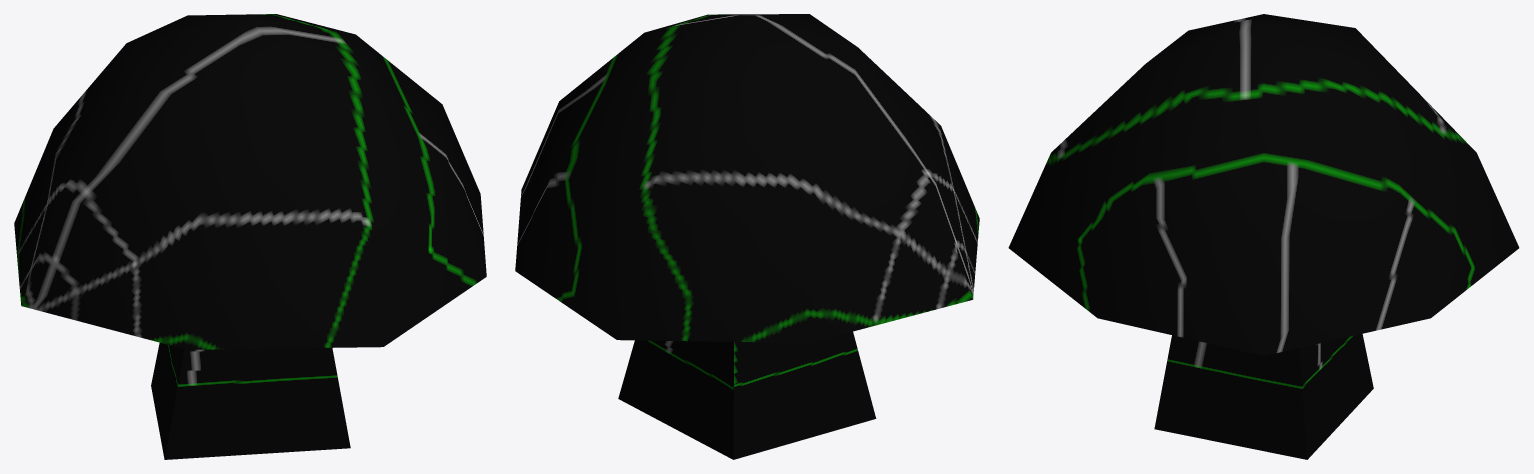
File: p_goodmush.FBX
3 views of the same model, side by side, from view 1: azimuth 30°, elevation 25°; view 2: azimuth 150°, elevation 25°; view 3: azimuth 270°, elevation 25° (orthographic). The views are drawn at different scales.
Parts seen in each view (by area): view 1: Cylinder002; view 2: Cylinder002; view 3: Cylinder002.
Boxes of the visible parts, box(x1,y1,x2,y2) form: Cylinder002: box(14, 14, 486, 459); Cylinder002: box(515, 14, 979, 459); Cylinder002: box(1008, 14, 1519, 459).
Size of the model in its own units: 59.57 by 49.58 by 59.57.
